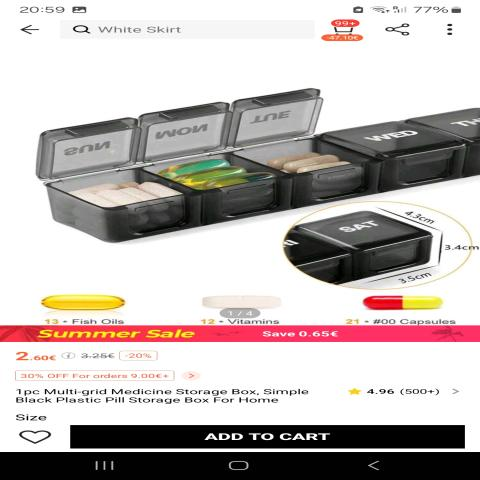Pill-box: (20, 63, 480, 292)
